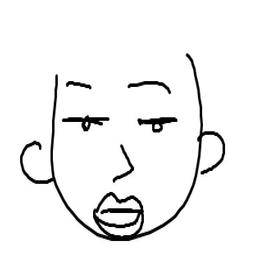ear: (19, 136, 57, 192), (194, 128, 227, 178)
eyebrow: (125, 75, 175, 97)
frowning_eyebrow: (65, 79, 96, 92)
open_mouth: (90, 184, 145, 240)
pointy_nose: (110, 144, 138, 181)
small_eye: (60, 112, 108, 135), (136, 117, 179, 135)
